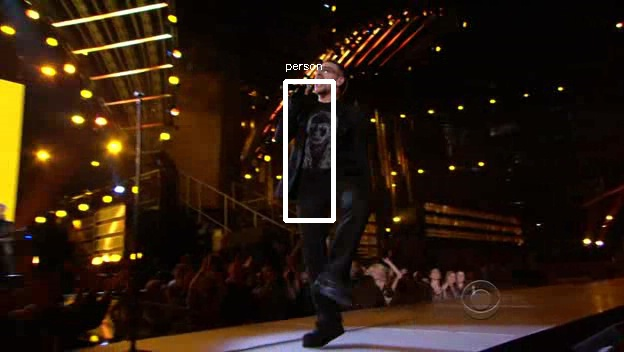person: (279, 62, 368, 226), (276, 62, 365, 226), (282, 62, 371, 226), (279, 59, 368, 223), (279, 65, 368, 229)
target_negative: (47, 41, 242, 296), (434, 62, 564, 221), (410, 10, 446, 189), (451, 252, 554, 294), (433, 22, 450, 124), (30, 337, 340, 340)
